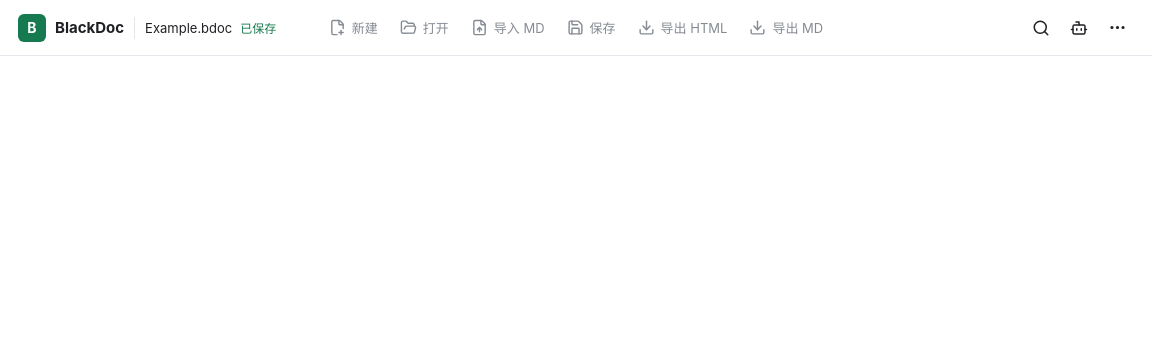
Test: Toolbar primary actions and more menu › disables document-changing actions while busy
The width and height of the screenshot is (1152, 358).
Expected: the button "新建" is disabled, top-left (320, 10), bottom-right (387, 44)
Expected: the button with aria-label "导入 Markdown" is disabled, top-left (462, 10), bottom-right (554, 44)
What coordinates should you click on to do the following:
click the button named "更多操作"
I would click on:
 (1117, 28)
Its box is top-left (1100, 10), bottom-right (1134, 44).
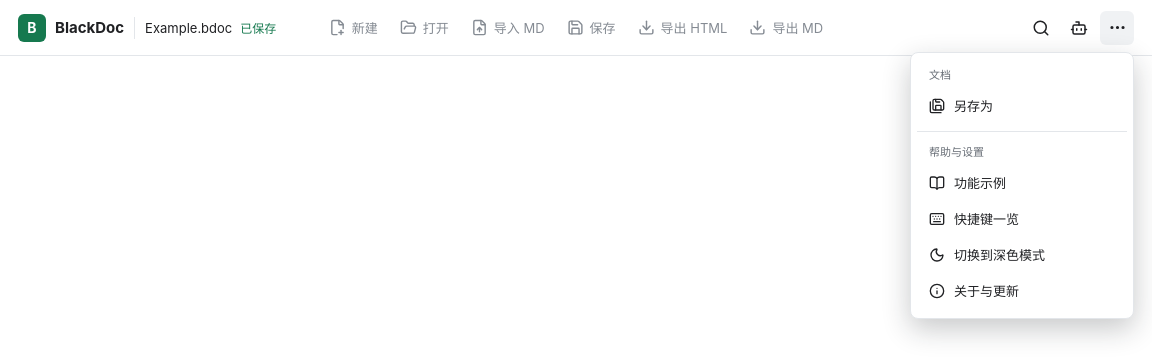
Expected: the button "功能示例" is disabled, top-left (921, 166), bottom-right (1123, 200)
Expected: the button "另存为" is disabled, top-left (921, 88), bottom-right (1123, 122)
